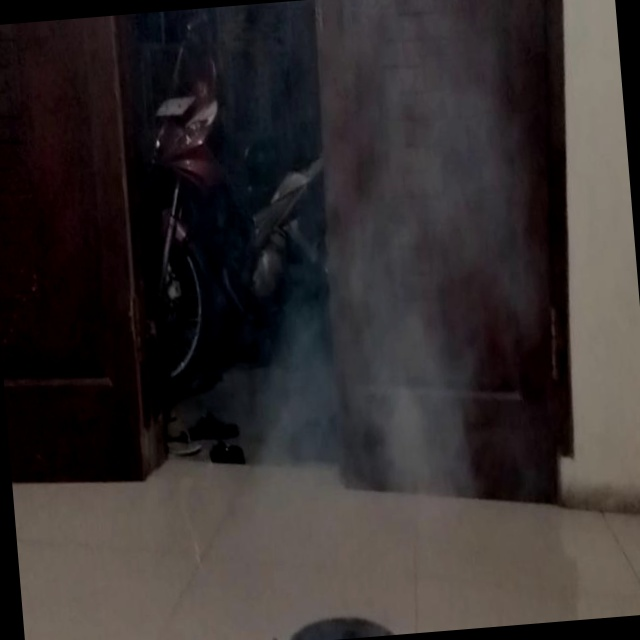smoke: (206, 0, 523, 314), (215, 318, 557, 583)
